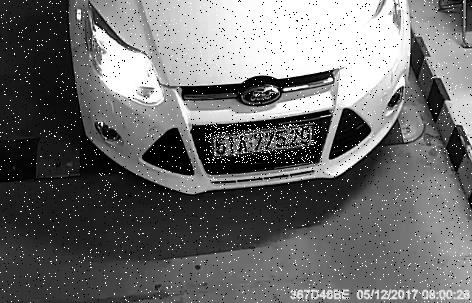License-plate: (205, 125, 323, 164)
